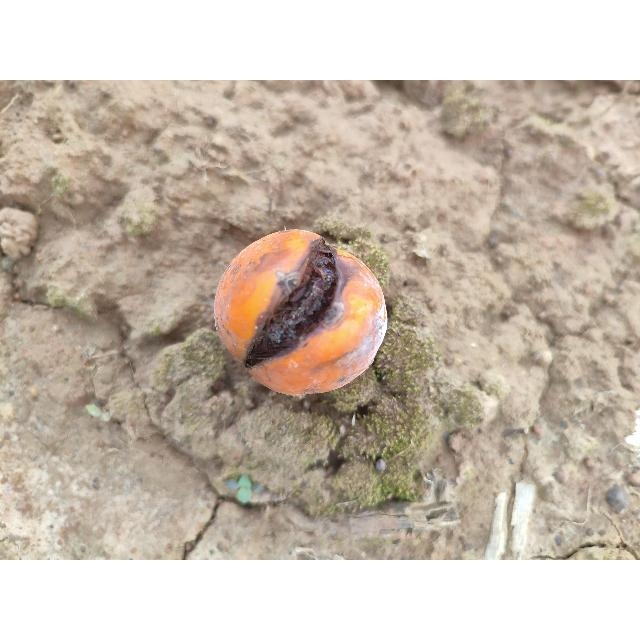damaged: (212, 230, 390, 398)
